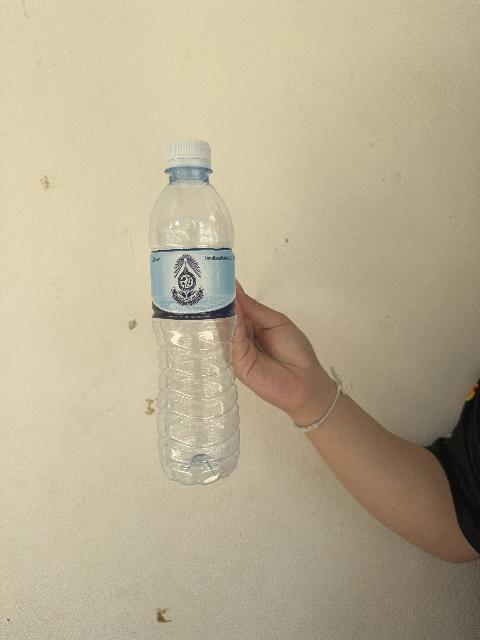bottle: (150, 140, 239, 484)
